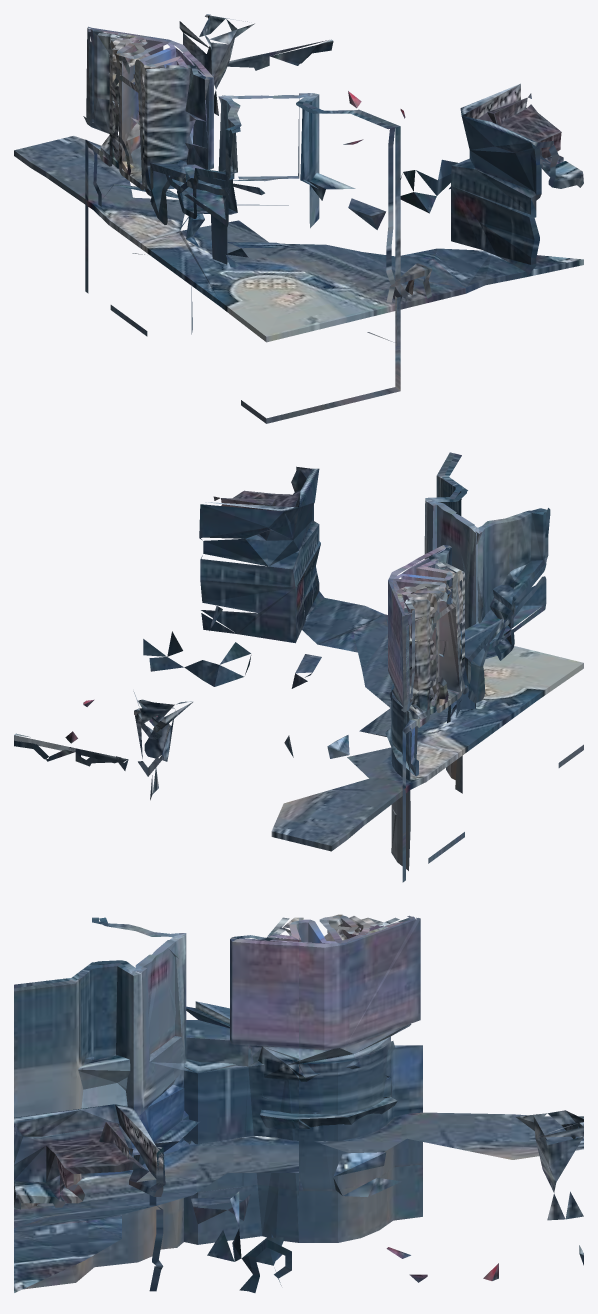
File: chunk_-1_0.glb
3 views of the same model, one above another, from view 1: azimuth 30°, elevation 25°; view 2: azimuth 150°, elevation 25°; view 3: azimuth 270°, elevation 25° (orthographic). The views are drawn at different scales.
Visible parts, largest first — view 1: hero-chunk; view 2: hero-chunk; view 3: hero-chunk.
Part boxes in pixels (bbox=[...]): hero-chunk: bbox=[14, 14, 583, 423]; hero-chunk: bbox=[14, 452, 583, 882]; hero-chunk: bbox=[14, 914, 583, 1292].
Bounding box in the file's own units: 56.35 × 45.13 × 76.32.
1 material, 1 textured.
